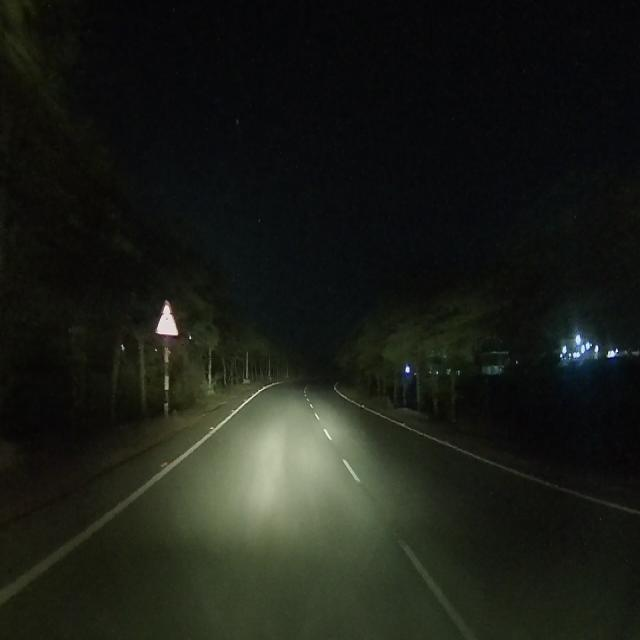right-hand-curve: (154, 294, 178, 343)
